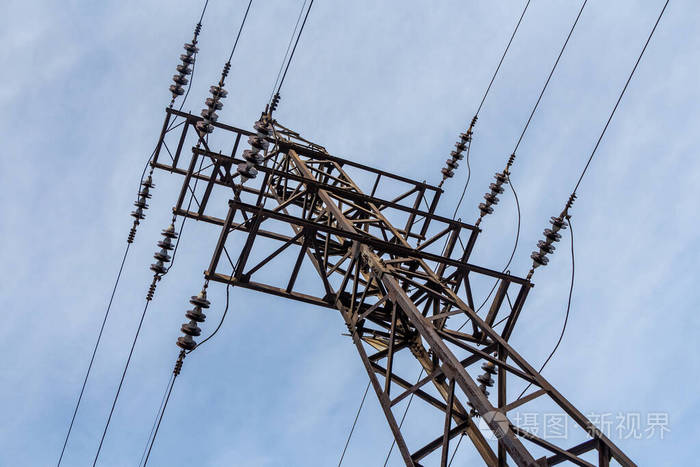insulator: (237, 122, 277, 177), (175, 294, 211, 352), (528, 214, 568, 266), (169, 43, 198, 96), (478, 171, 511, 215), (198, 88, 230, 133), (441, 133, 469, 178), (151, 227, 178, 273), (131, 176, 154, 218), (477, 363, 498, 386)
